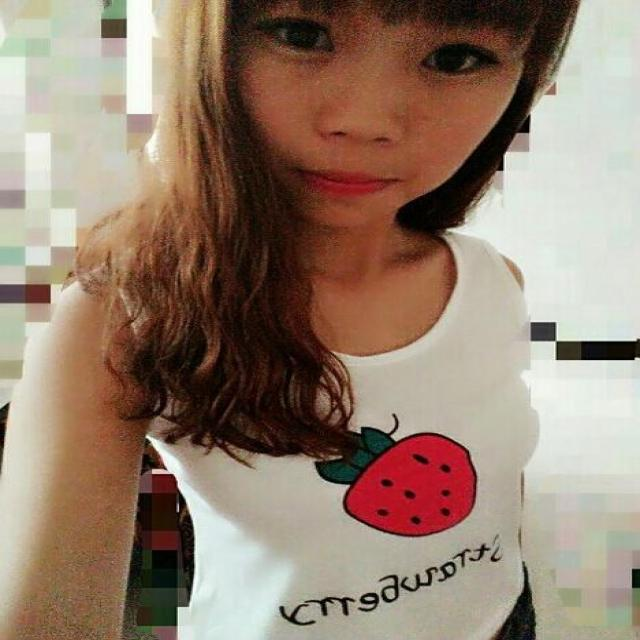vest: (104, 230, 531, 639)
